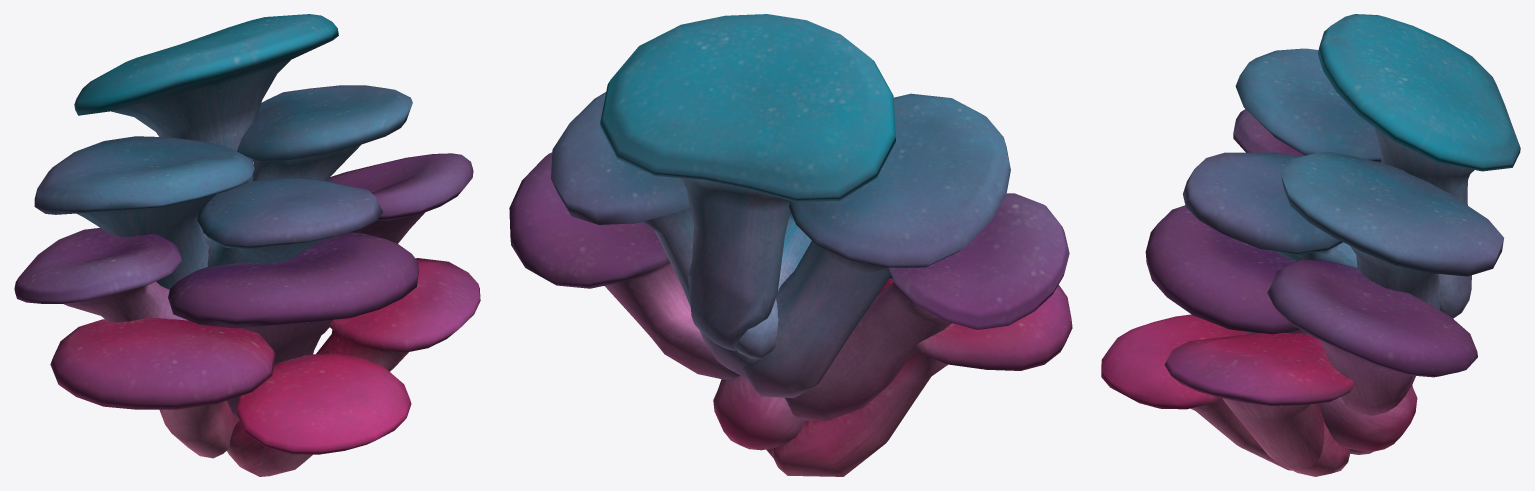
File: Mushroom_13.gltf
3 renders of one model, left to right at view 1: azimuth 30°, elevation 25°; view 2: azimuth 150°, elevation 25°; view 3: azimuth 270°, elevation 25°, orthographic. The views are drawn at different scales.
Parts seen in each view (by area): view 1: Mushroom_13(Clone); view 2: Mushroom_13(Clone); view 3: Mushroom_13(Clone).
Part boxes in pixels (x1,y1,x2,y2): Mushroom_13(Clone): [14, 14, 480, 476]; Mushroom_13(Clone): [509, 14, 1072, 476]; Mushroom_13(Clone): [1101, 14, 1520, 476].
Bounding box in the file's own units: 16.73 × 14.42 × 12.61.
1 material, 1 textured.
